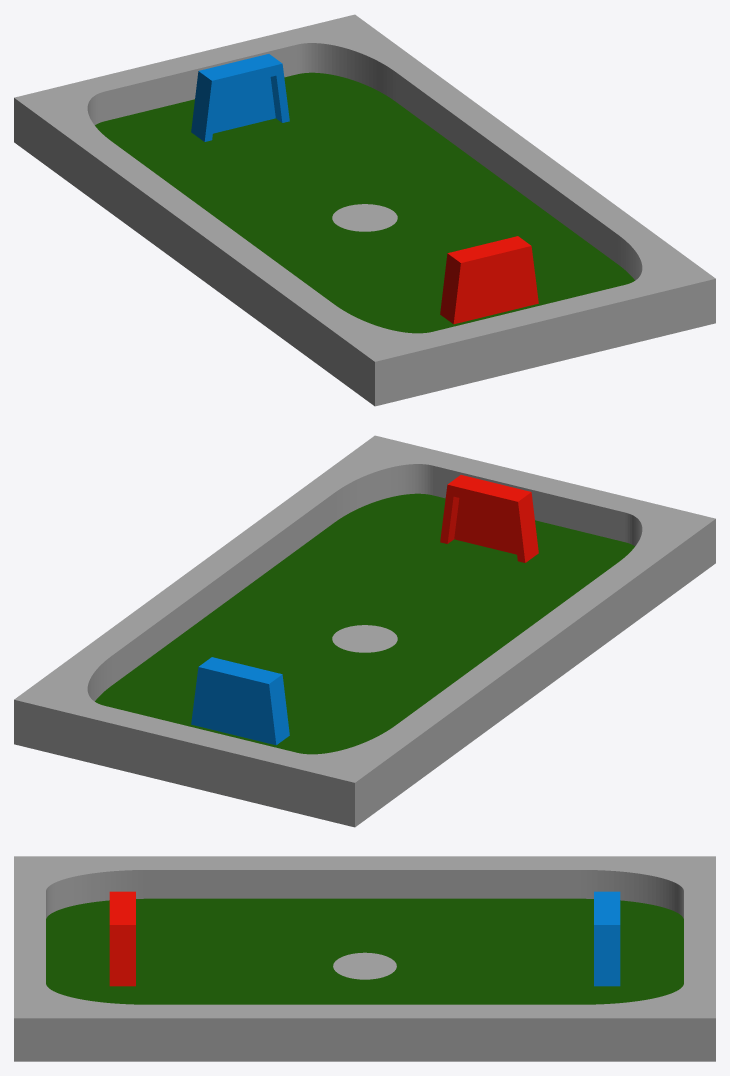
The model's file is Goals.fbx.
3 views of the same model, one above another, from view 1: azimuth 30°, elevation 25°; view 2: azimuth 150°, elevation 25°; view 3: azimuth 270°, elevation 25° (orthographic). The views are drawn at different scales.
Visible parts, largest first — view 1: Cube.001, Cube; view 2: Cube.001, Cube; view 3: Cube.001, Cube.
Part boxes in pixels (left/top/right/bottom): Cube.001: left=14, top=14, right=715, bottom=406; Cube: left=191, top=54, right=538, bottom=324; Cube.001: left=14, top=435, right=715, bottom=827; Cube: left=191, top=475, right=538, bottom=745; Cube.001: left=14, top=856, right=715, bottom=1061; Cube: left=109, top=891, right=620, bottom=986.
Bounding box in the file's own units: 1200 × 250 × 2200.
